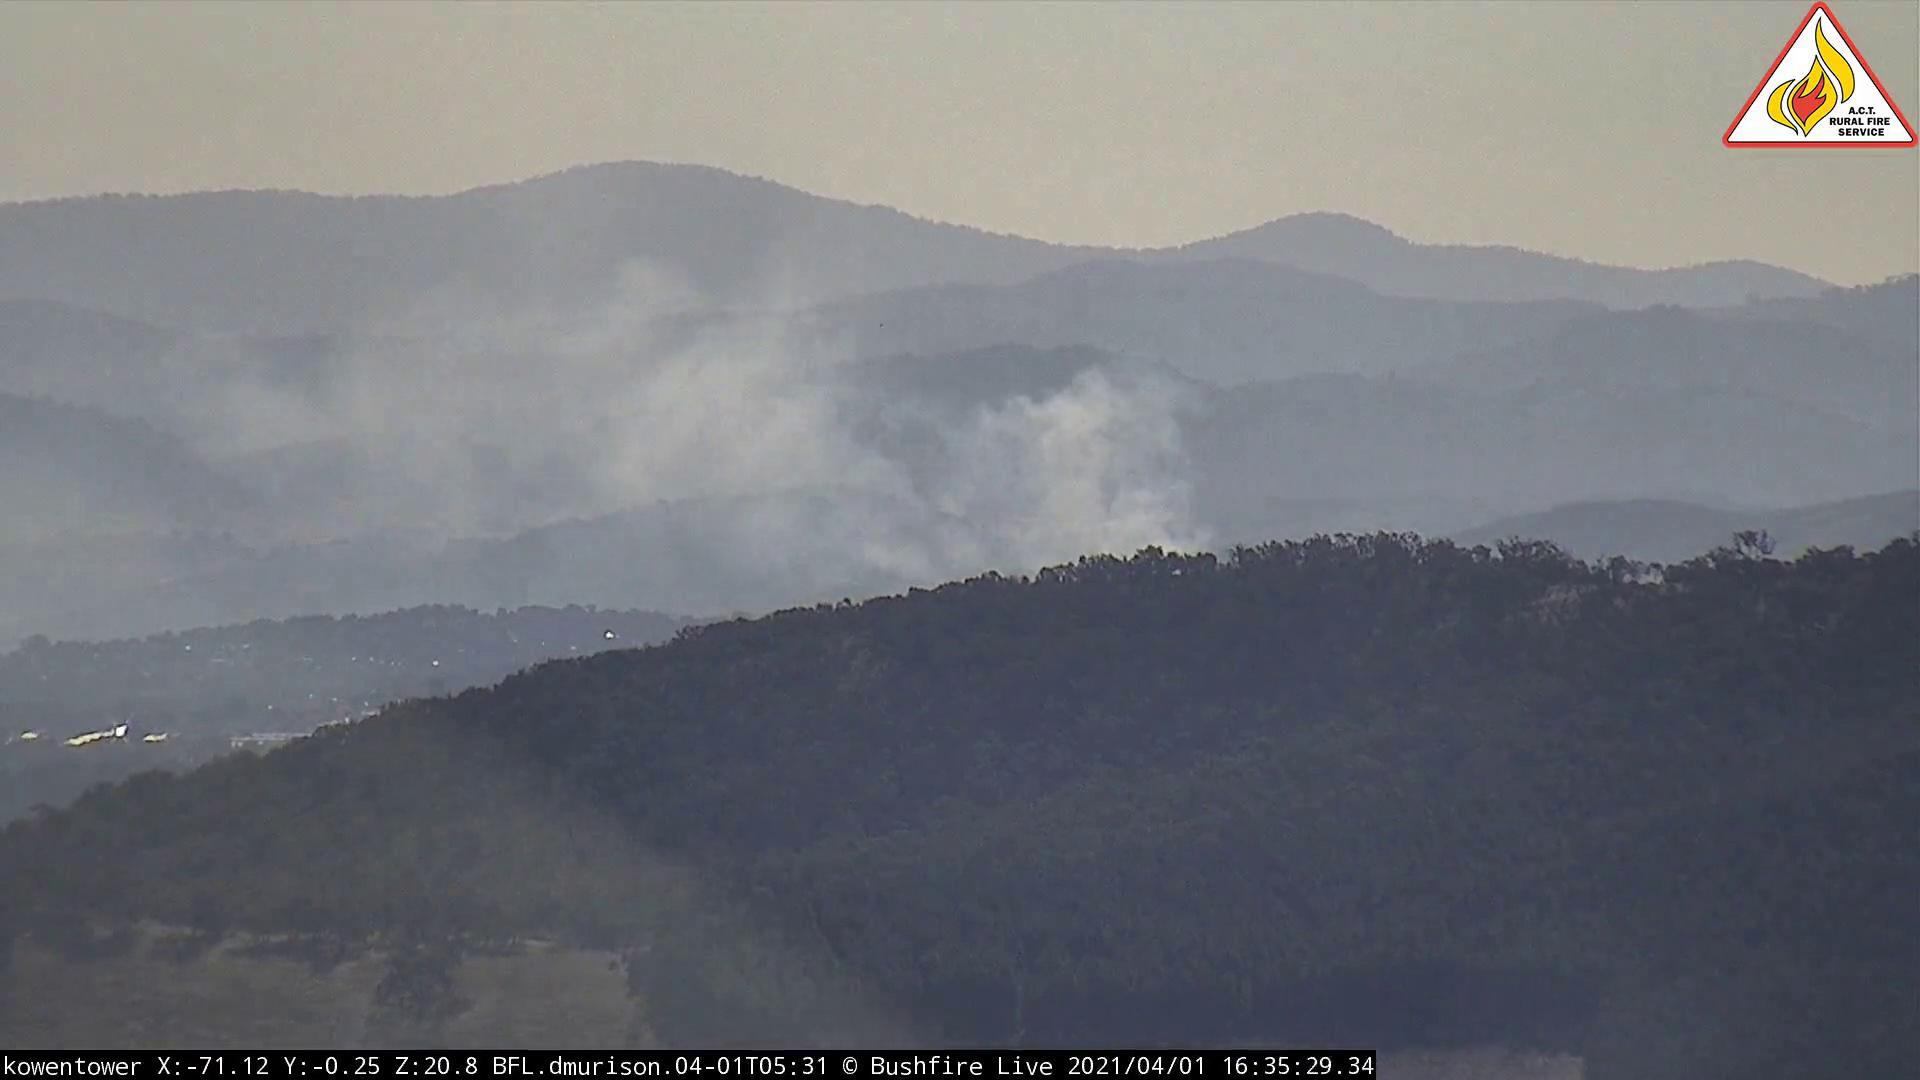Smoke: (196, 228, 1245, 640)
